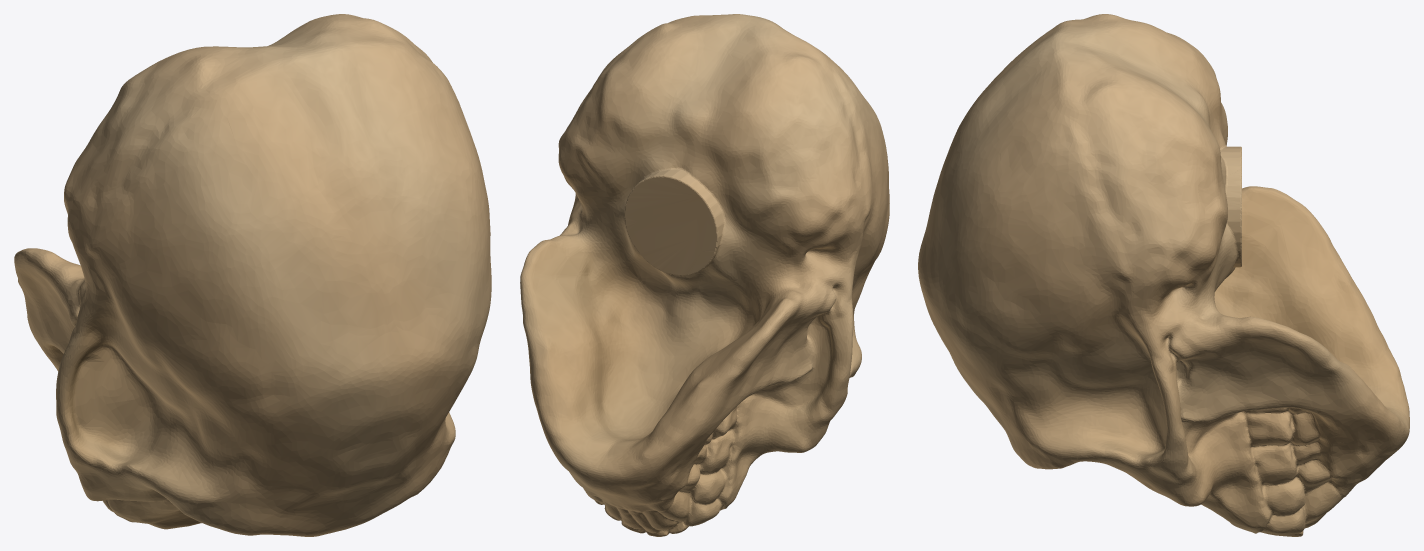
The model's file is georgicus.glb.
3 renders of one model, left to right at view 1: azimuth 30°, elevation 25°; view 2: azimuth 150°, elevation 25°; view 3: azimuth 270°, elevation 25°, orthographic. The views are drawn at different scales.
Size of the model in its own units: 31.74 by 44.56 by 40.73.
